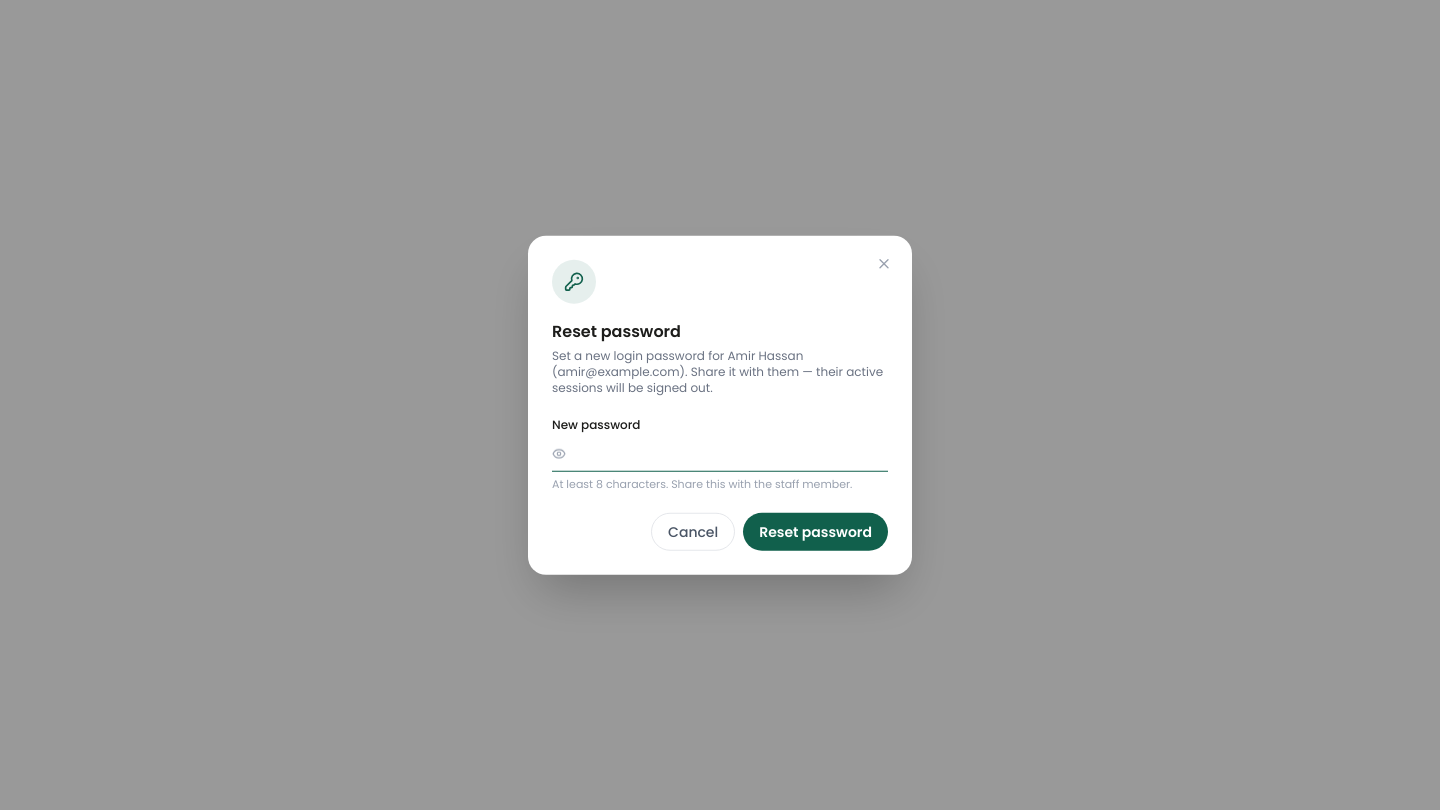
Test: StaffResetPasswordDialog › shows a validation error for a short password
Type "short" into the password field at (720, 454), box [552,436,888,472]
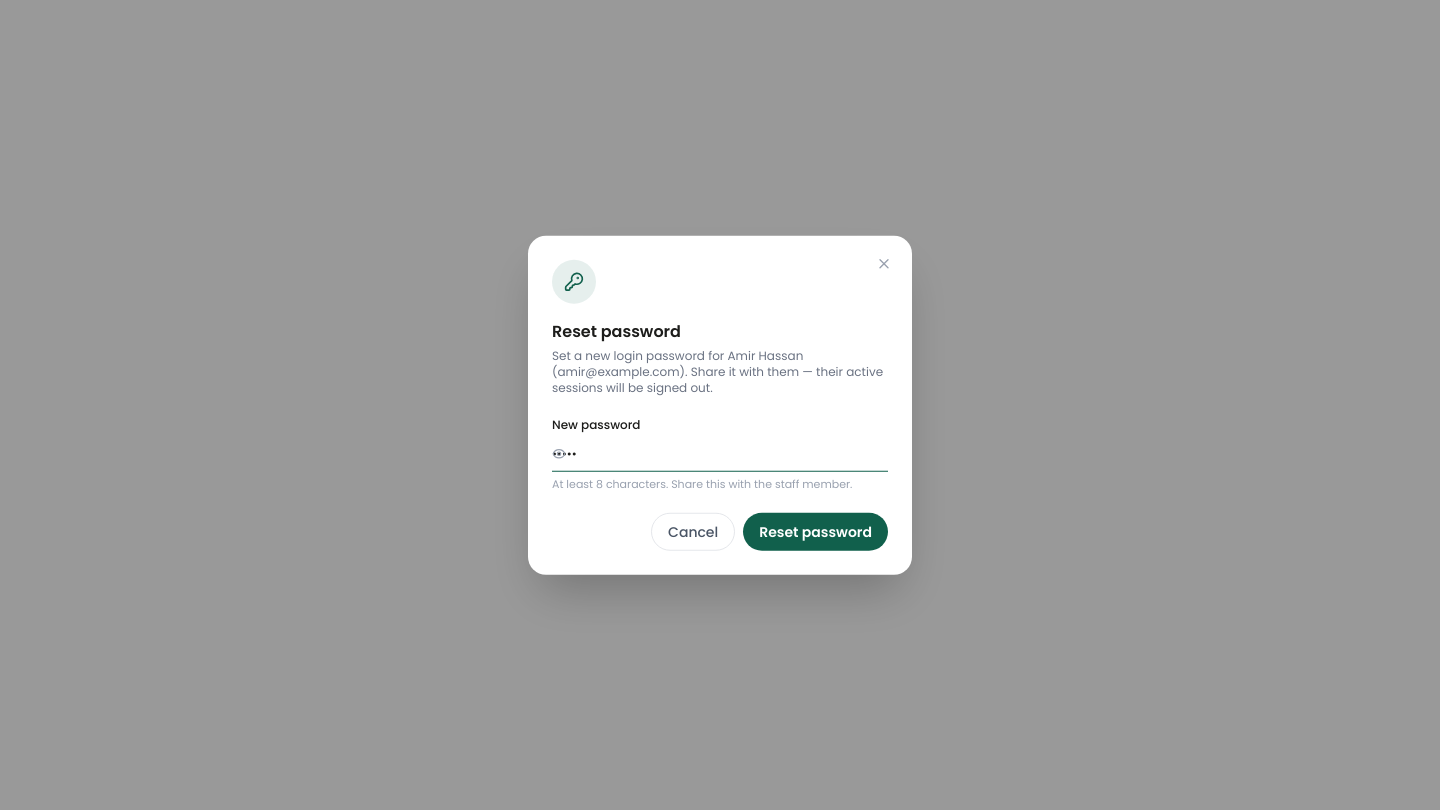
Click the button "Reset password" at (816, 531), box [743,512,888,550]
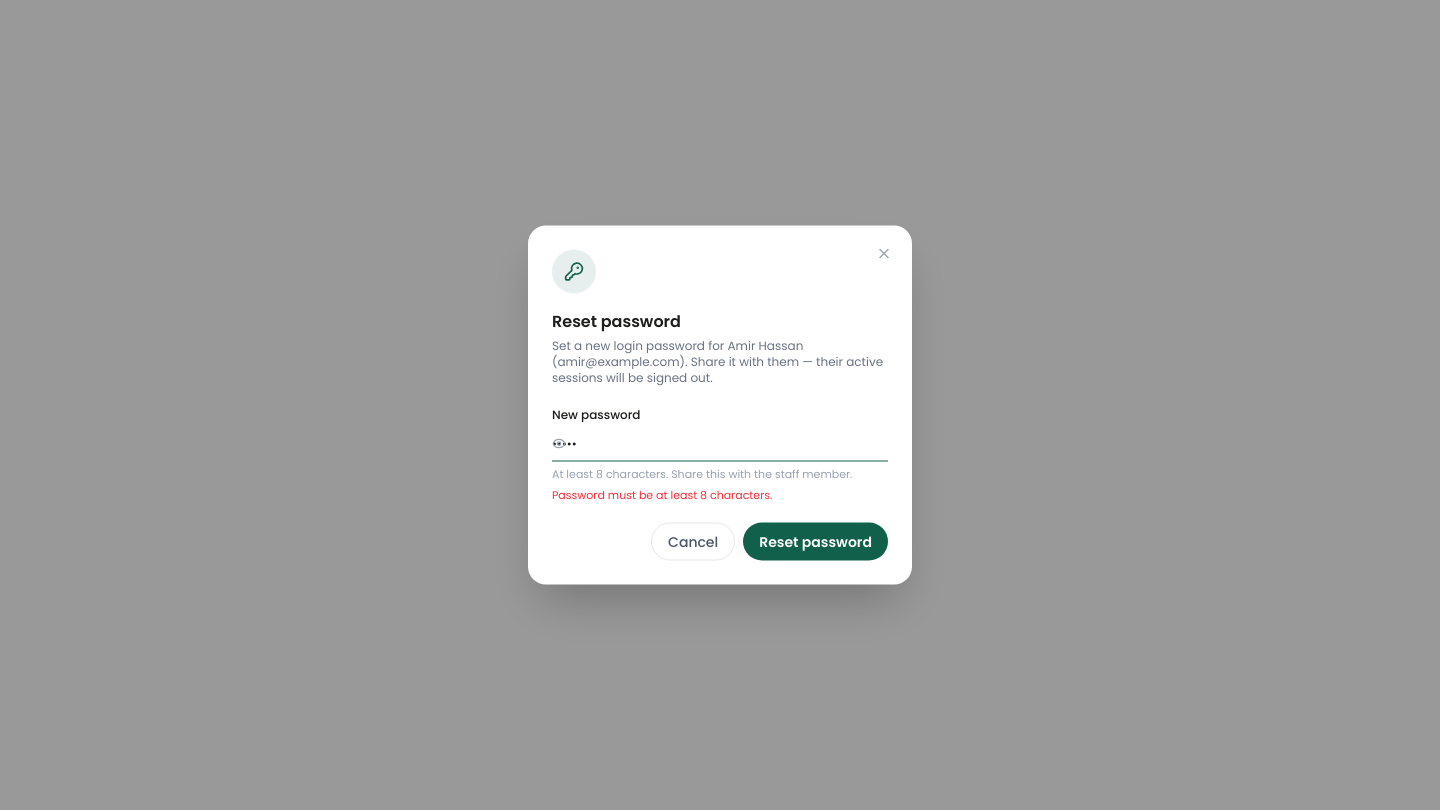
Check: the text "Password must be at least 8 characters." is shown, box [552,486,772,502]
